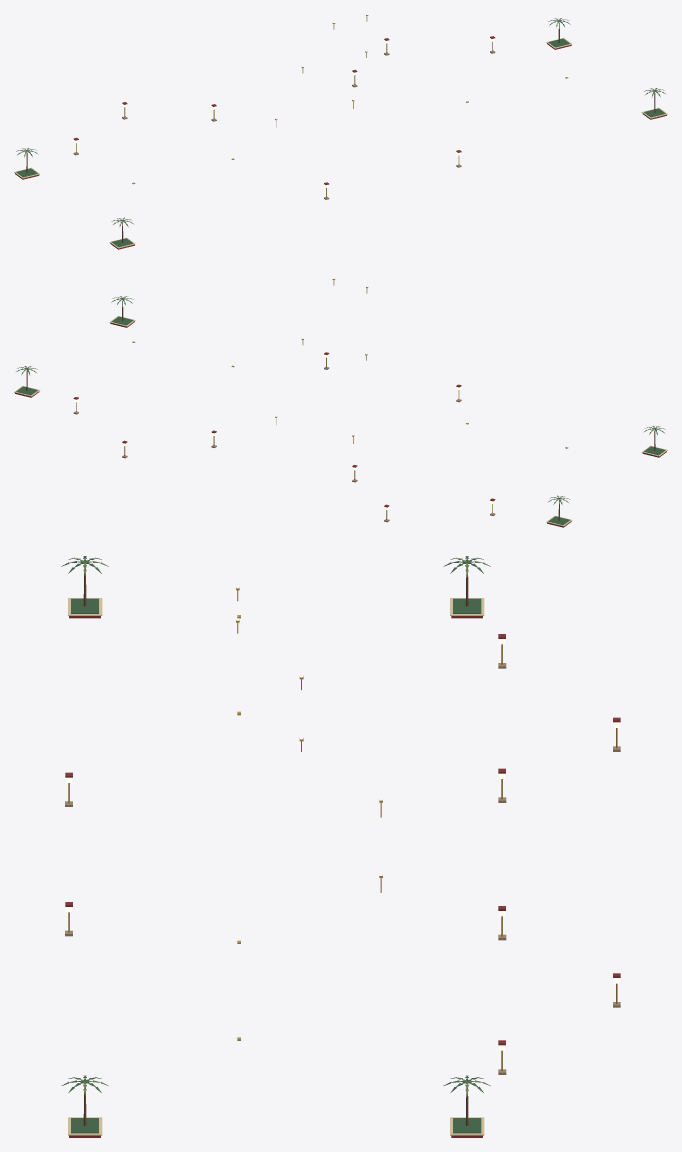
The model's file is KOL_T1_DAKSHINESHWAR__14_Landscape_Fixtures.fbx.
3 renders of one model, top to bottom at view 1: azimuth 30°, elevation 25°; view 2: azimuth 150°, elevation 25°; view 3: azimuth 270°, elevation 25°, orthographic. The views are drawn at different scales.
Visible parts, largest first — view 1: KOL_T1_DAKSHINESHWAR__14_Landscape_Fixtures__KOL_T1_Leaf; view 2: KOL_T1_DAKSHINESHWAR__14_Landscape_Fixtures__KOL_T1_Leaf; view 3: KOL_T1_DAKSHINESHWAR__14_Landscape_Fixtures__KOL_T1_Leaf, KOL_T1_DAKSHINESHWAR__14_Landscape_Fixtures__KOL_T1_TempleCr.
Boxes of the visible parts, box(x1,y1,x2,y2) form: KOL_T1_DAKSHINESHWAR__14_Landscape_Fixtures__KOL_T1_Leaf: box(16, 18, 665, 246); KOL_T1_DAKSHINESHWAR__14_Landscape_Fixtures__KOL_T1_Leaf: box(16, 296, 665, 524); KOL_T1_DAKSHINESHWAR__14_Landscape_Fixtures__KOL_T1_Leaf: box(61, 556, 483, 1133); KOL_T1_DAKSHINESHWAR__14_Landscape_Fixtures__KOL_T1_TempleCr: box(68, 598, 484, 1135).
Size of the model in its own units: 401 by 95.1 by 176.
